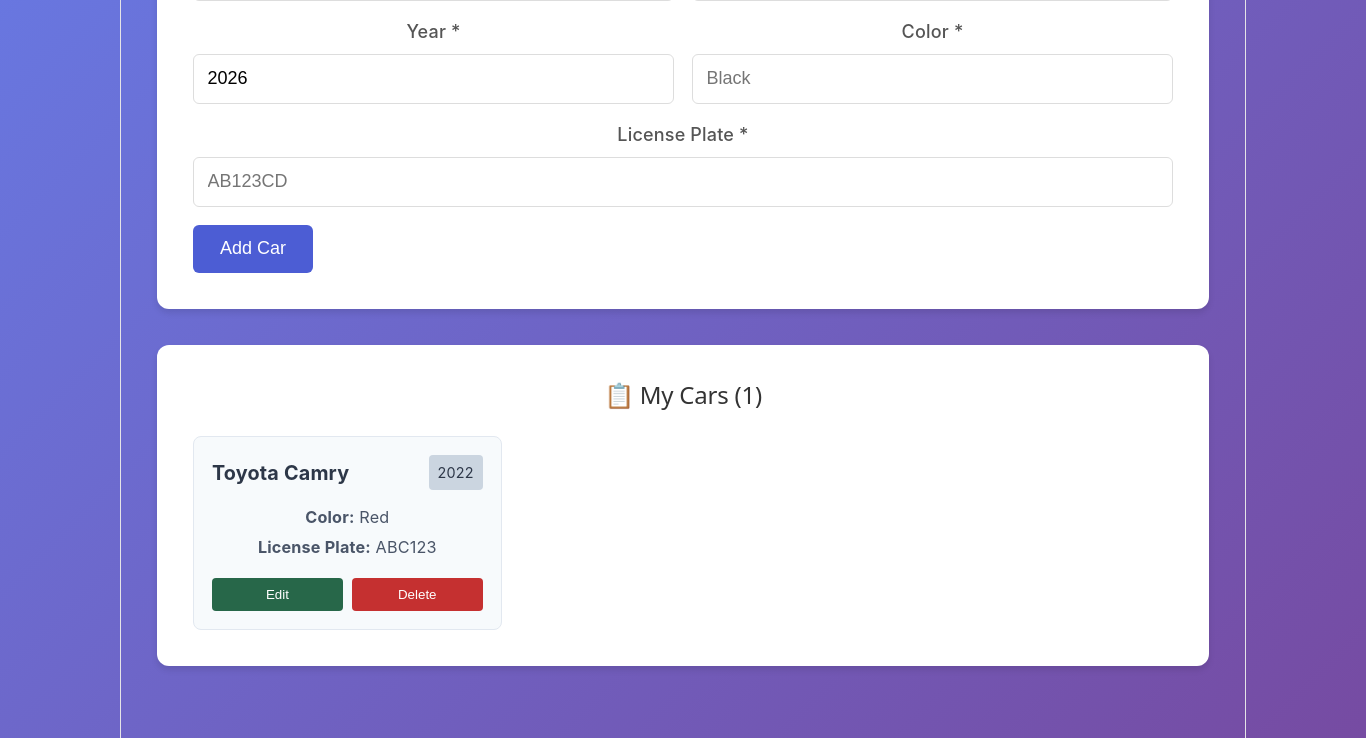
Test case: App › populates form when edit button is clicked
(page scrolled)
Expected: the heading "Toyota Camry" is shown, [212,460,349,486]
Click the button "Edit" at (277, 595), box [212,578,343,611]
(page scrolled)
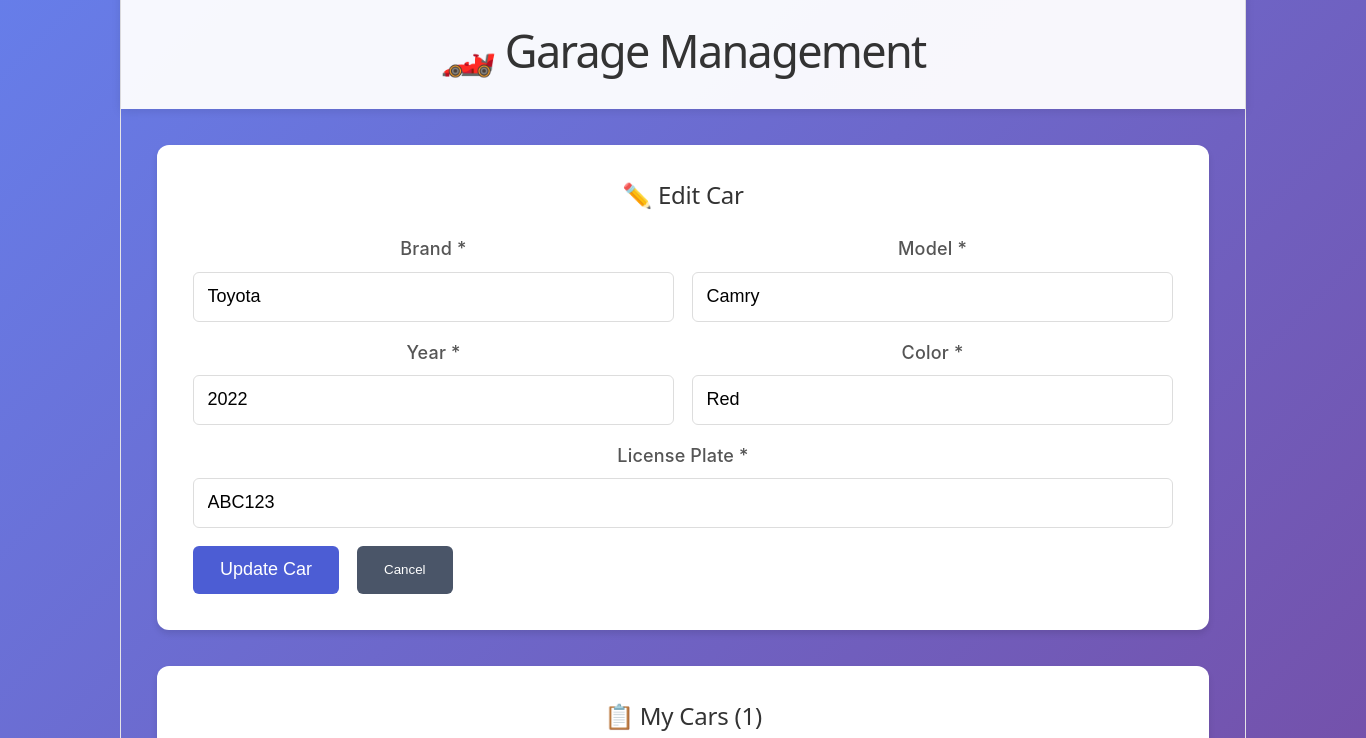
Now the field showing "Toyota" is shown, box [193,272,674,322]
Now the field showing "Camry" is shown, box [692,272,1173,322]
Now the button "Update Car" is shown, box [193,546,339,594]
